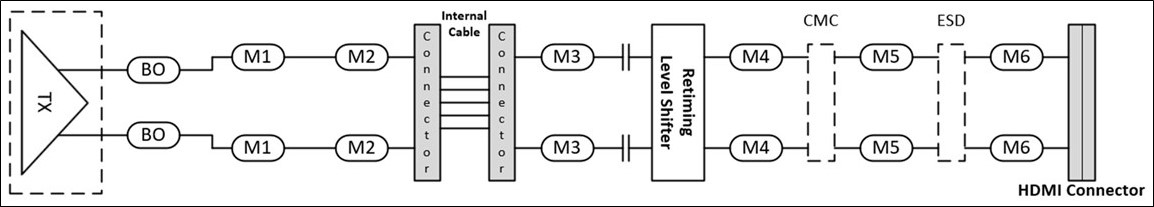capacitor: (616, 38, 636, 78), (618, 126, 638, 166)
dotted_rectangle: (6, 4, 107, 199), (797, 33, 839, 170), (926, 33, 968, 170)
oval: (119, 116, 183, 152), (121, 49, 185, 85), (225, 41, 289, 77), (326, 40, 390, 76), (224, 131, 288, 167), (330, 127, 394, 163), (532, 40, 596, 76), (536, 131, 600, 167), (722, 39, 786, 75), (723, 129, 787, 165), (852, 38, 916, 74), (852, 128, 916, 164), (982, 39, 1046, 75), (984, 128, 1048, 164)
rectangle: (644, 19, 710, 185), (1059, 16, 1103, 183), (407, 19, 448, 184), (477, 20, 518, 185)
triangle: (18, 26, 88, 179)
